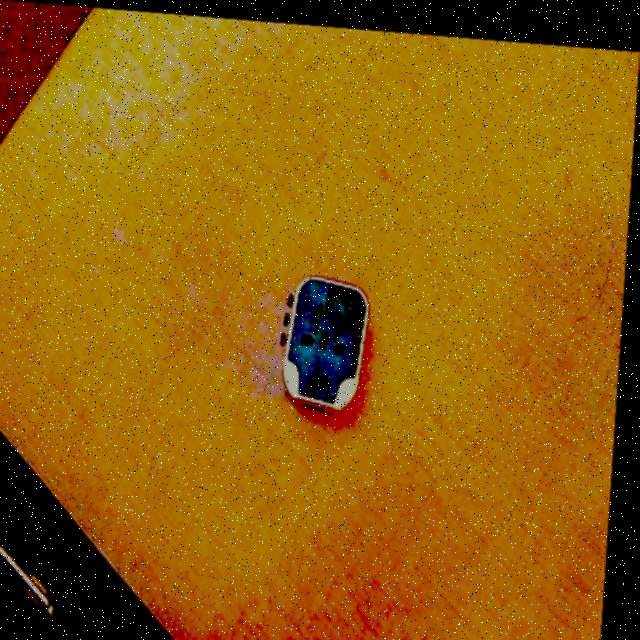adapter: (281, 266, 375, 408)
